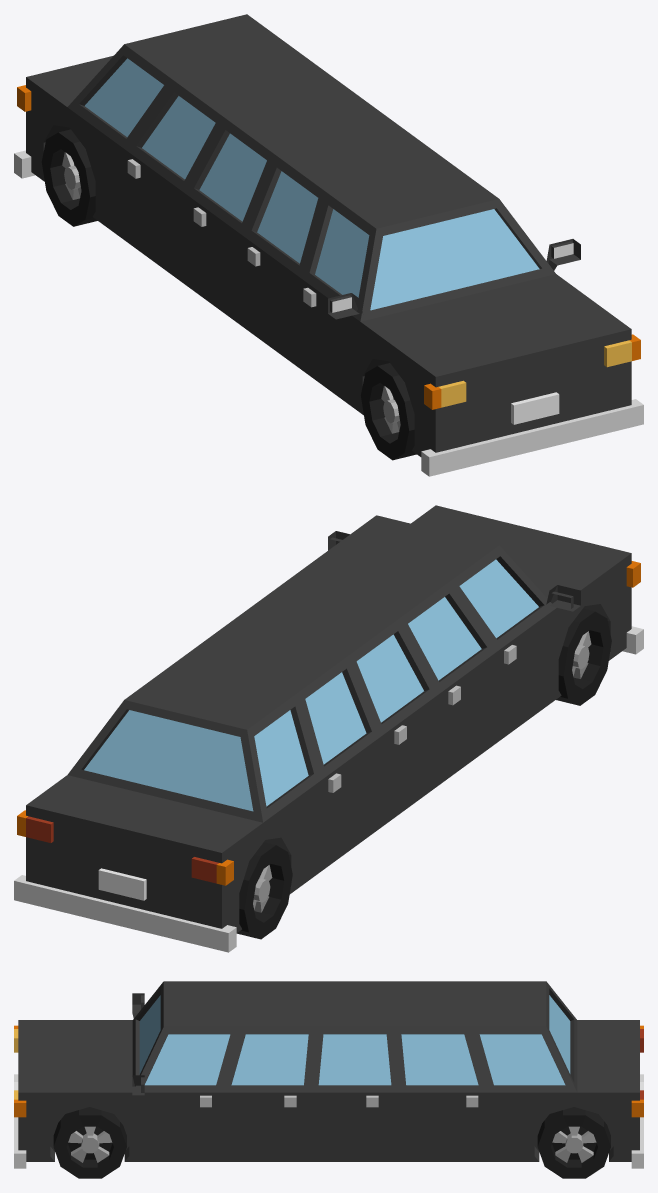
File: linken.glb
The picture shows the model from 3 angles, top to bottom: view 1: azimuth 30°, elevation 25°; view 2: azimuth 150°, elevation 25°; view 3: azimuth 270°, elevation 25°; orthographic projection. The views are drawn at different scales.
Visible parts, largest first — view 1: Vehicle.001_Material_0; view 2: Vehicle.001_Material_0; view 3: Vehicle.001_Material_0.
Part boxes in pixels (left/top/right/bottom): Vehicle.001_Material_0: left=14, top=14, right=643, bottom=476; Vehicle.001_Material_0: left=14, top=505, right=643, bottom=952; Vehicle.001_Material_0: left=14, top=981, right=643, bottom=1178.
Size of the model in its own units: 2.5 by 1.77 by 7.34.
1 material, 1 textured.
